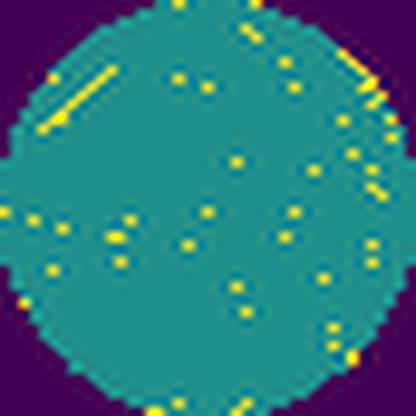Scratch: (29, 53, 126, 142)
